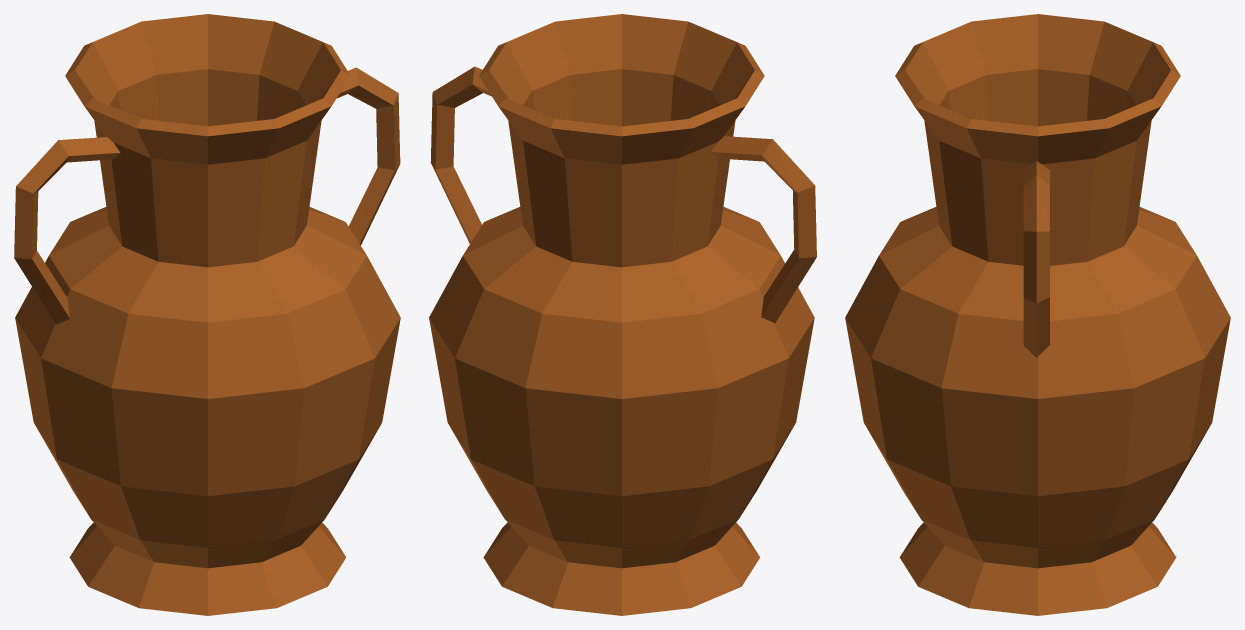
File: SM_pottery_009.FBX
3 views of the same model, side by side, from view 1: azimuth 30°, elevation 25°; view 2: azimuth 150°, elevation 25°; view 3: azimuth 270°, elevation 25° (orthographic).
Parts seen in each view (by area): view 1: Object093; view 2: Object093; view 3: Object093.
Boxes of the visible parts, bbox=[...] form: Object093: bbox=[14, 14, 400, 615]; Object093: bbox=[429, 14, 816, 615]; Object093: bbox=[845, 14, 1230, 615].
Size of the model in its own units: 65.35 by 78.79 by 56.53.
